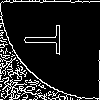T: (24, 24, 71, 55)
